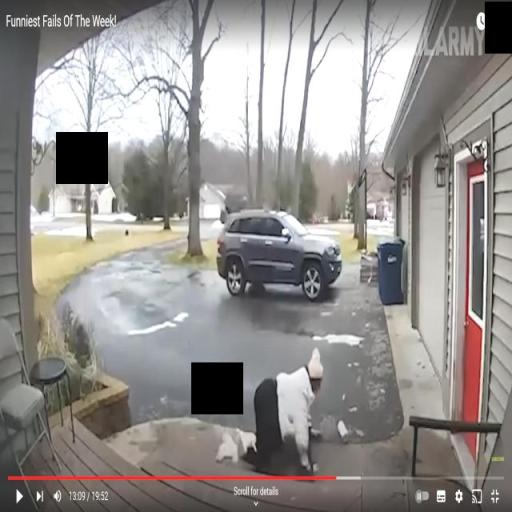Fall: (213, 345, 326, 480)
